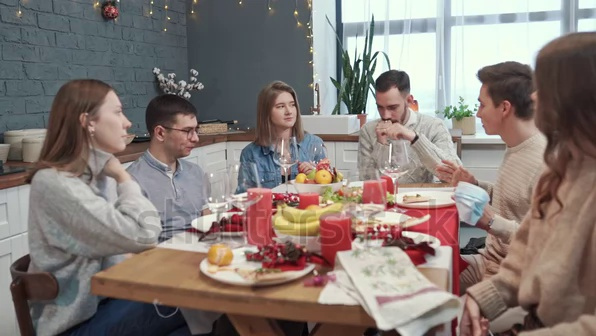No Mask: (63, 82, 134, 157), (469, 73, 533, 141), (150, 104, 207, 161), (370, 72, 415, 130), (260, 87, 301, 131)
